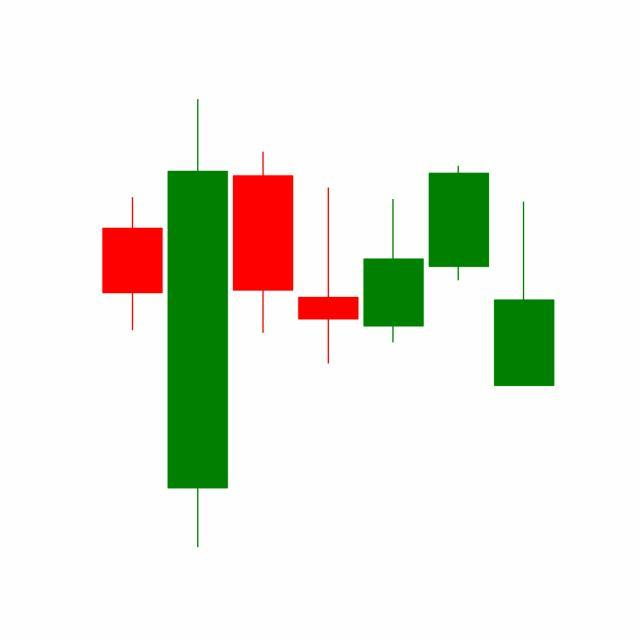Three Outside Up-Down: (295, 164, 492, 367)
